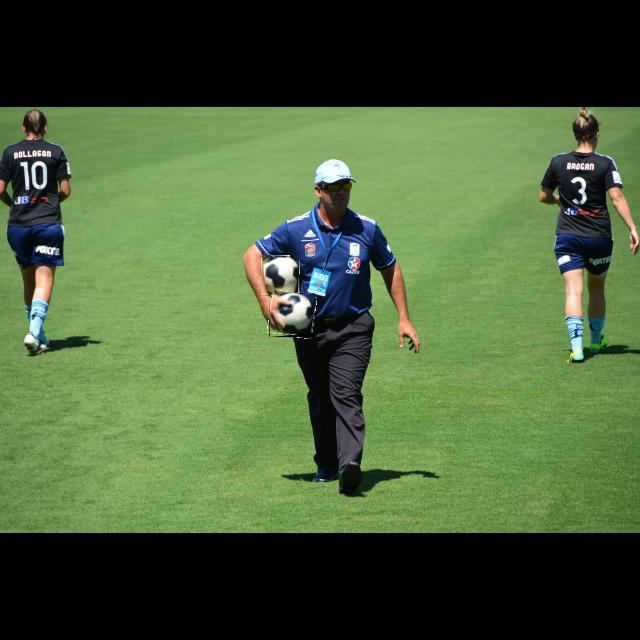Football: (269, 293, 315, 337), (260, 256, 300, 296)
